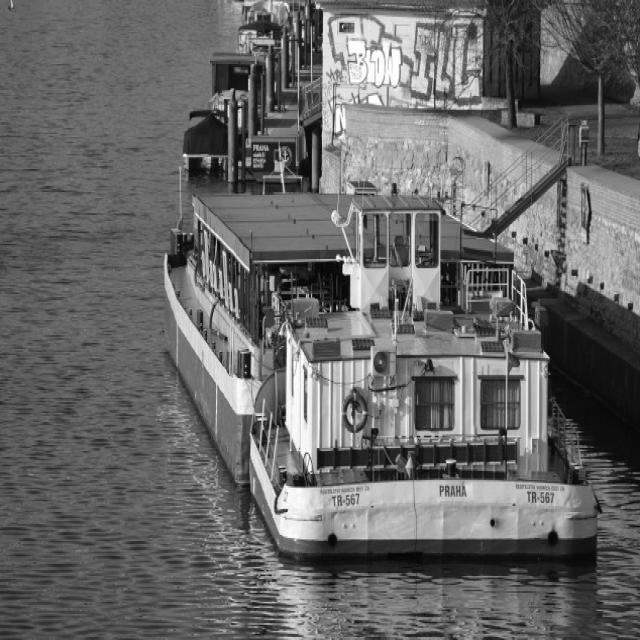tugboat: (159, 173, 610, 582)
